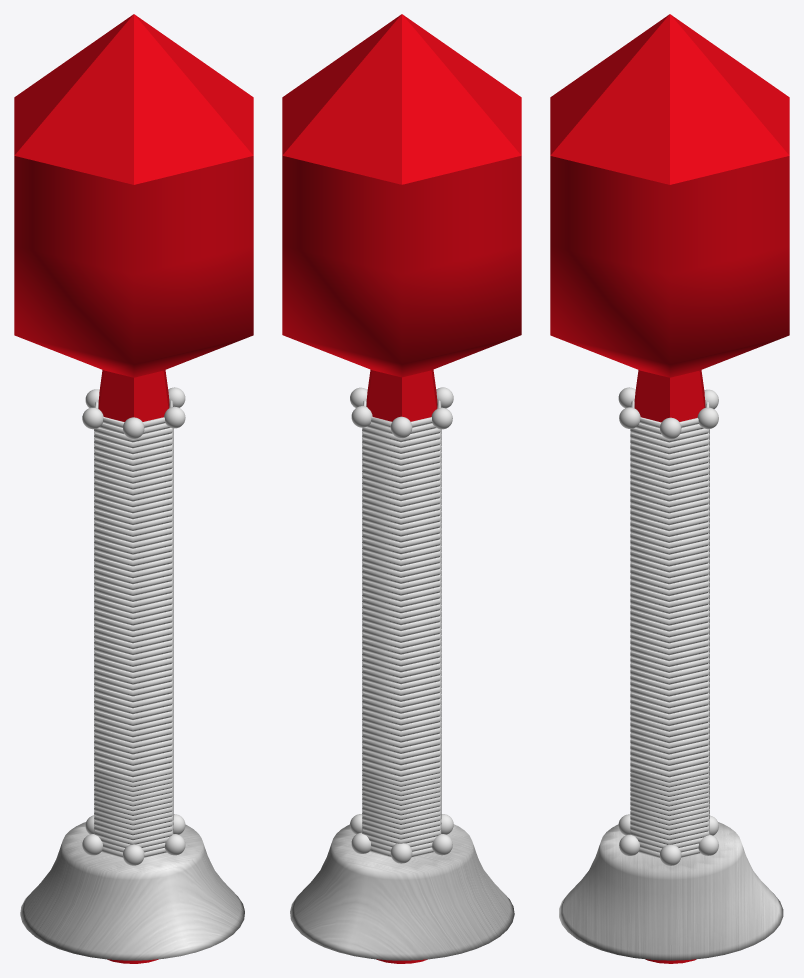
Rendered from virus.DAE.
3 renders of one model, left to right at view 1: azimuth 30°, elevation 25°; view 2: azimuth 150°, elevation 25°; view 3: azimuth 270°, elevation 25°, orthographic.
Parts seen in each view (by area): view 1: Cylinder001, Cylinder002, Torus044, Torus022, Torus012, Torus034, Torus017, Torus018, Torus043, Torus023, Torus020, Torus033 (+37 smaller); view 2: Cylinder001, Cylinder002, Torus030, Torus051, Torus022, Torus014, Torus019, Torus039, Torus050, Torus027, Torus038, Torus040 (+37 smaller); view 3: Cylinder001, Cylinder002, Torus046, Torus041, Torus019, Torus013, Torus008, Torus035, Torus030, Torus024, Torus017, Torus014 (+38 smaller).
Part boxes in pixels (x1,y1,x2,y2): Cylinder001: [14, 14, 253, 421]; Cylinder002: [20, 822, 244, 960]; Torus044: [94, 654, 173, 684]; Torus022: [94, 524, 173, 554]; Torus012: [94, 465, 173, 495]; Torus034: [94, 595, 173, 625]; Torus017: [94, 494, 173, 524]; Torus018: [94, 500, 173, 530]; Torus043: [94, 648, 173, 678]; Torus023: [94, 530, 173, 560]; Torus020: [94, 512, 173, 542]; Torus033: [94, 589, 173, 619]; Cylinder001: [282, 14, 521, 421]; Cylinder002: [290, 824, 514, 960]; Torus030: [362, 571, 441, 601]; Torus051: [362, 695, 441, 725]; Torus022: [362, 523, 441, 554]; Torus014: [362, 476, 441, 506]; Torus019: [362, 506, 441, 536]; Torus039: [362, 624, 441, 654]; Torus050: [362, 689, 441, 719]; Torus027: [362, 553, 441, 583]; Torus038: [362, 618, 441, 648]; Torus040: [362, 630, 441, 660]; Cylinder001: [550, 14, 789, 422]; Cylinder002: [559, 822, 783, 960]; Torus046: [630, 666, 709, 696]; Torus041: [630, 636, 709, 666]; Torus019: [630, 506, 709, 536]; Torus013: [630, 471, 709, 501]; Torus008: [630, 441, 709, 471]; Torus035: [630, 601, 709, 631]; Torus030: [630, 571, 709, 601]; Torus024: [630, 536, 709, 566]; Torus017: [630, 494, 709, 525]; Torus014: [630, 477, 709, 507].
Bounding box in the file's own units: 14.72 × 54.9 × 12.75.
